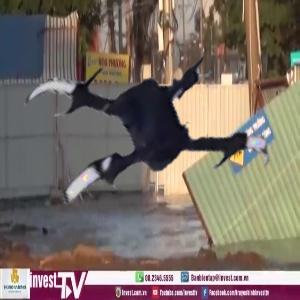drone: (13, 17, 268, 272)
